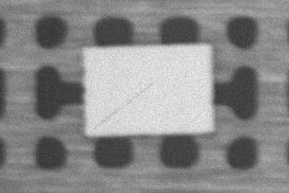DIE_CRACK: (139, 55, 229, 86)
